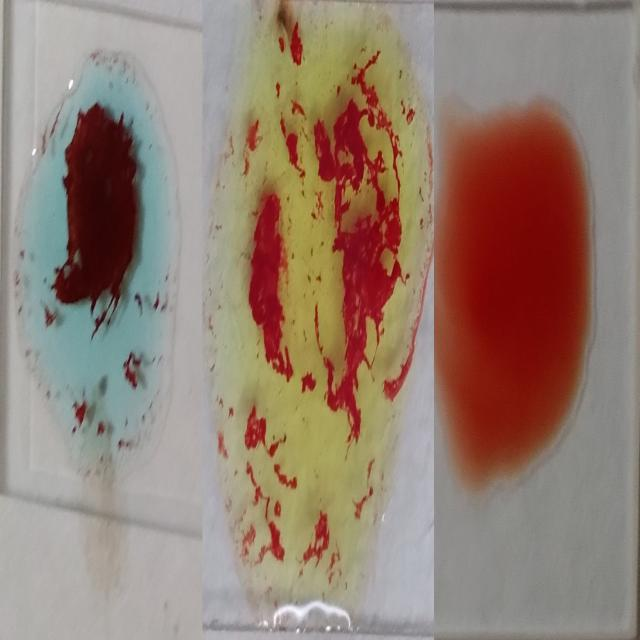A: (12, 43, 178, 472)
B: (212, 6, 426, 633)
